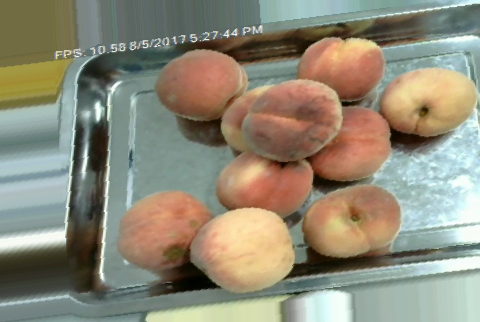Peach: (189, 204, 295, 294), (241, 79, 340, 159), (119, 189, 210, 274), (301, 184, 399, 256), (382, 67, 478, 138), (301, 104, 388, 181), (156, 48, 245, 122), (216, 154, 315, 216), (296, 36, 384, 101)
